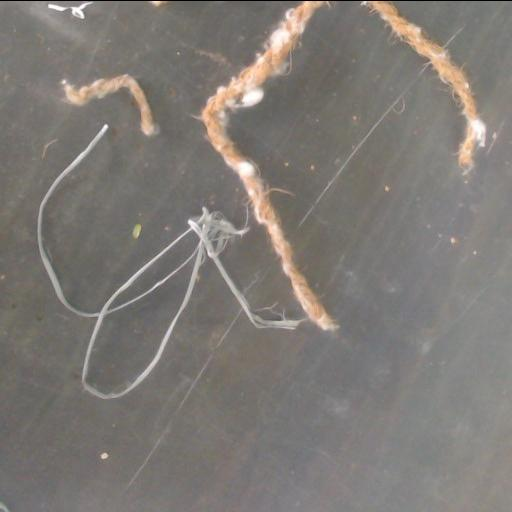conveyor belt: (0, 1, 511, 512)
jute: (200, 1, 335, 329), (362, 1, 485, 165), (63, 74, 156, 135)
thread: (38, 125, 302, 396)
